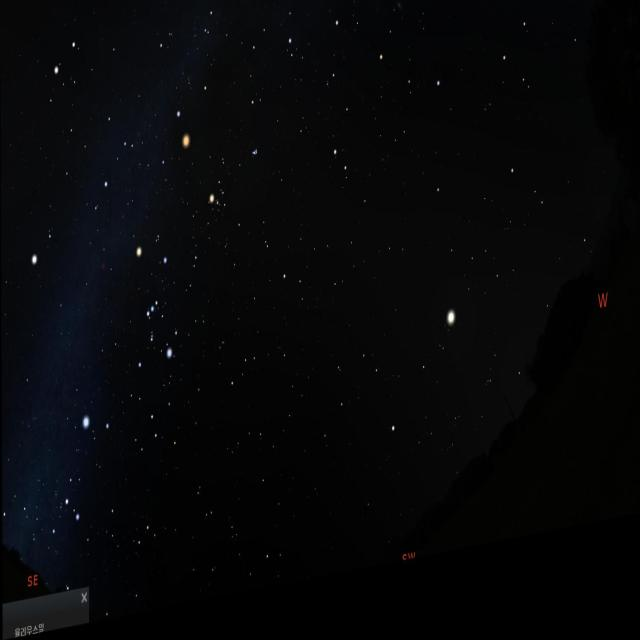canis_major: (55, 399, 117, 528)
canis_minor: (26, 218, 59, 276)
gemini: (44, 16, 143, 207)
orion: (129, 248, 176, 376)
pleiades: (246, 147, 262, 173)
taurus: (192, 126, 266, 252)
